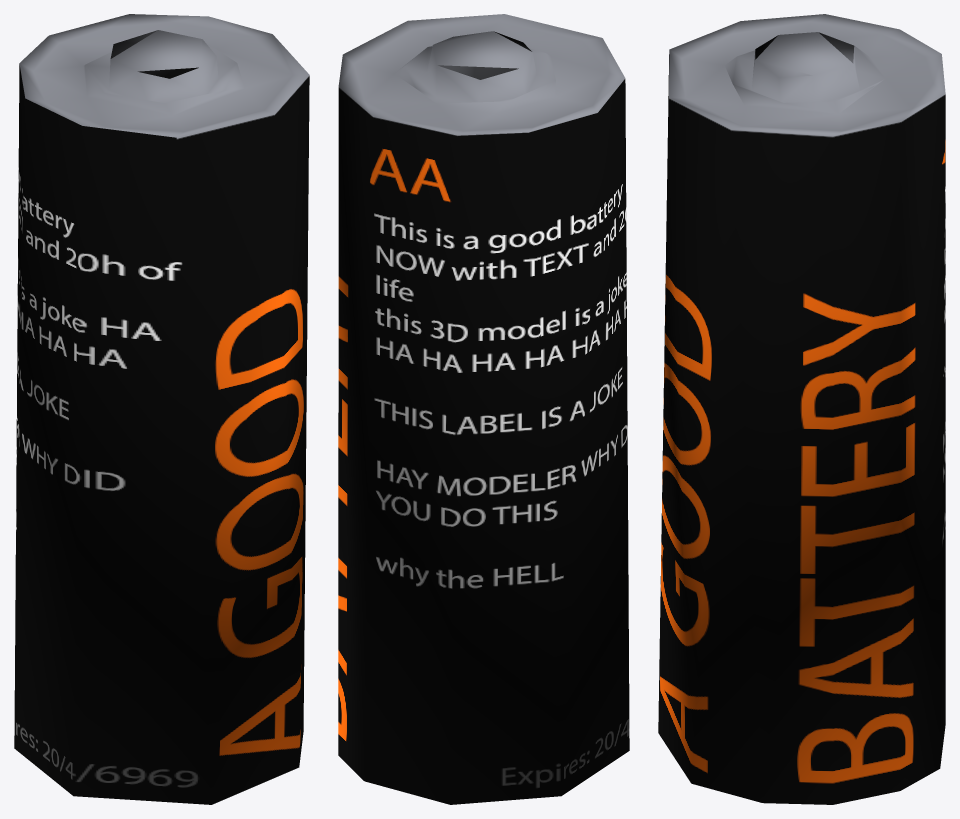
Rendered from battery.fbx.
3 views of the same model, side by side, from view 1: azimuth 30°, elevation 25°; view 2: azimuth 150°, elevation 25°; view 3: azimuth 270°, elevation 25° (orthographic).
Parts seen in each view (by area): view 1: BATTERY; view 2: BATTERY; view 3: BATTERY.
Part boxes in pixels (<box>): BATTERY: <box>14,14,309,804</box>; BATTERY: <box>338,14,629,804</box>; BATTERY: <box>658,14,945,804</box>.
Bounding box in the file's own units: 33.07 × 87.07 × 32.81.
1 material, 1 textured.
